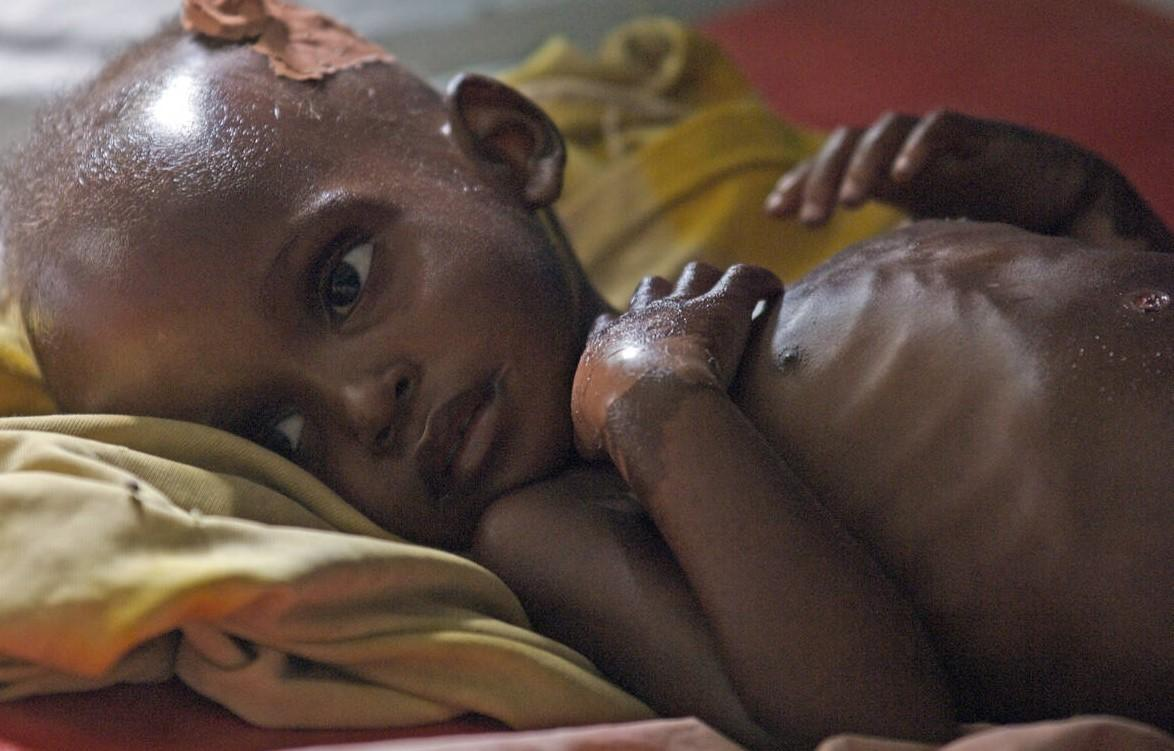Stunting: (46, 14, 598, 726)
